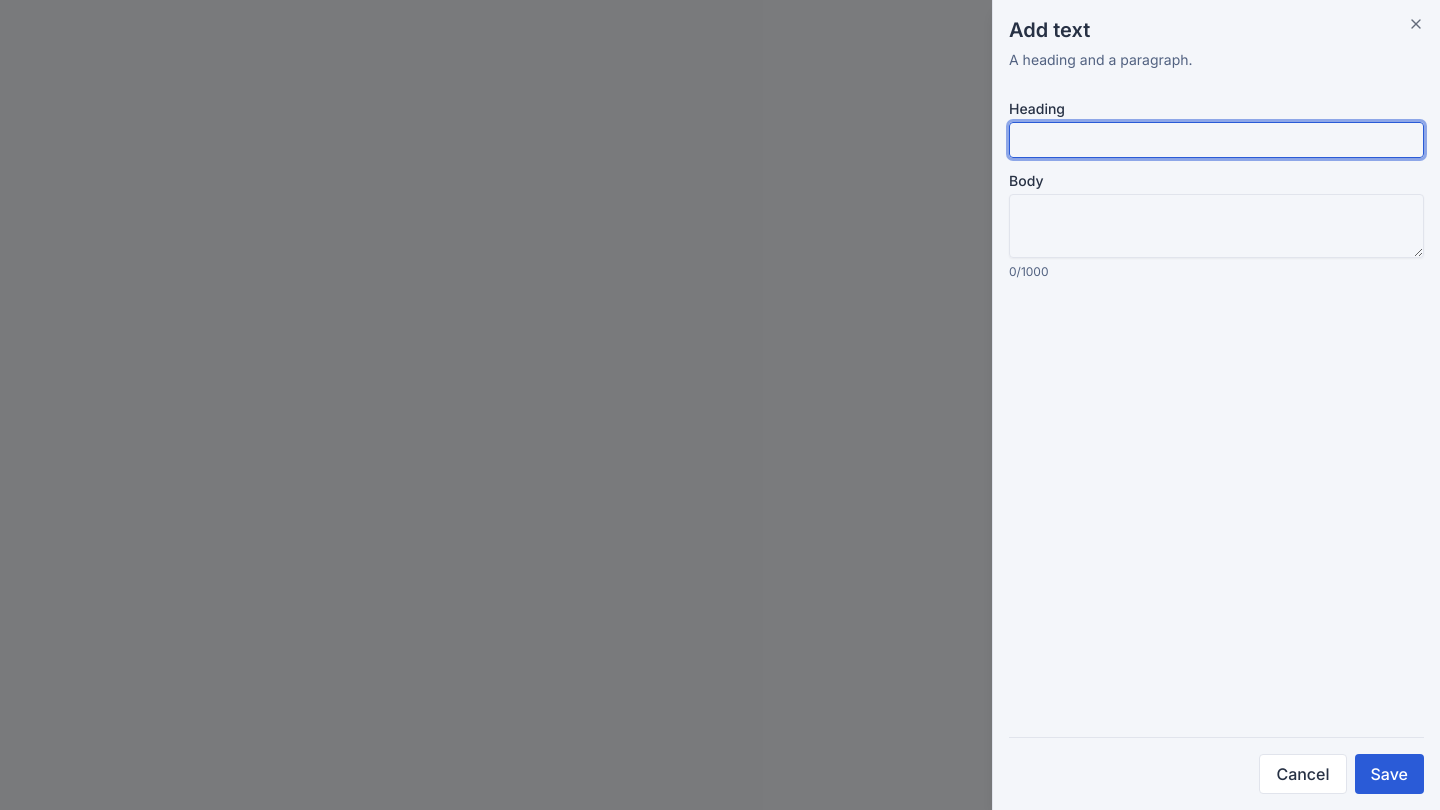
BlockSheet › text form requires a heading or body
This screenshot has width=1440, height=810.
Expected: the heading "Add text" is shown, [1009,18,1090,42]
Step 1. Click the button "Save" → (1389, 774), box [1354,754,1424,794]
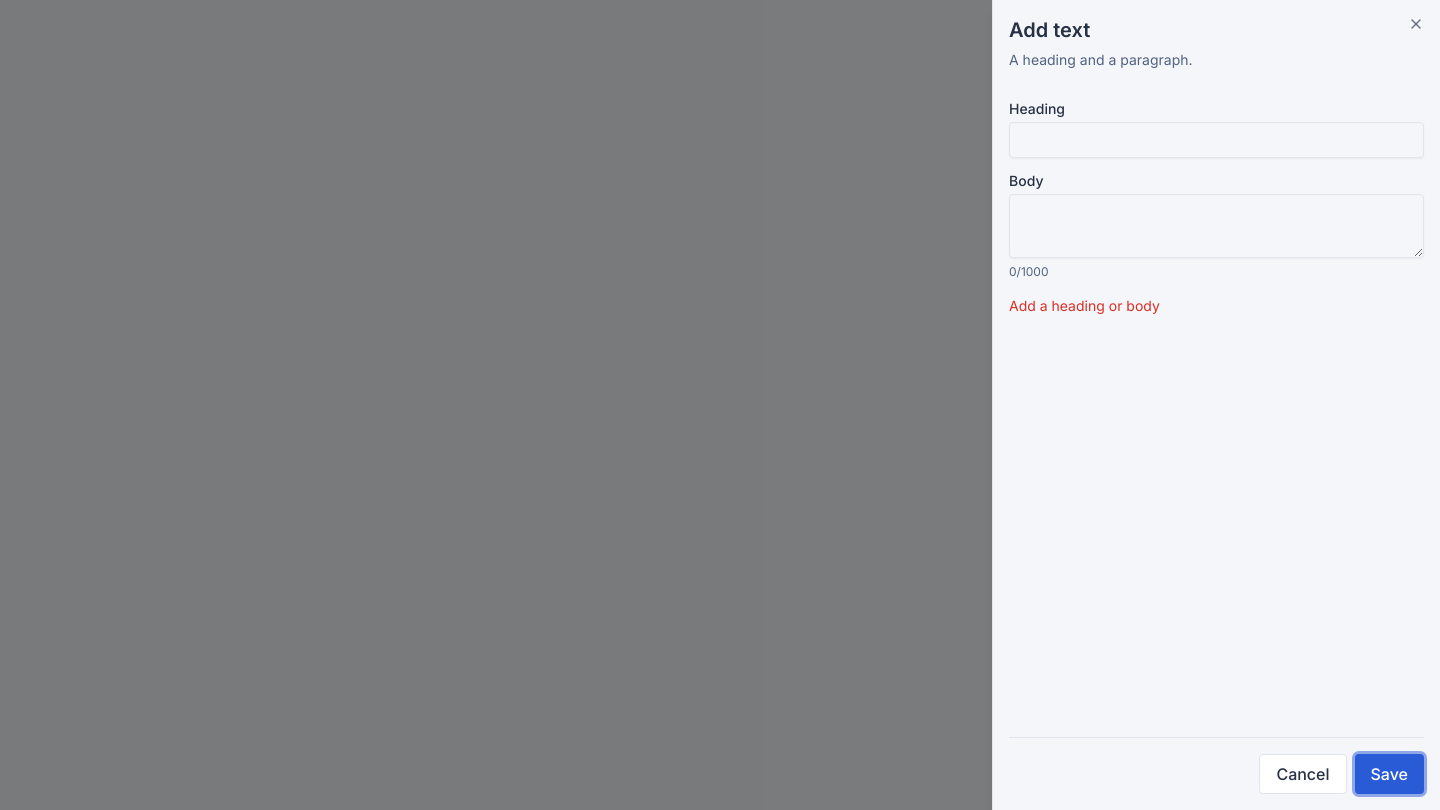
Expected: the text "Add a heading or body" is shown, [1009,297,1160,314]
